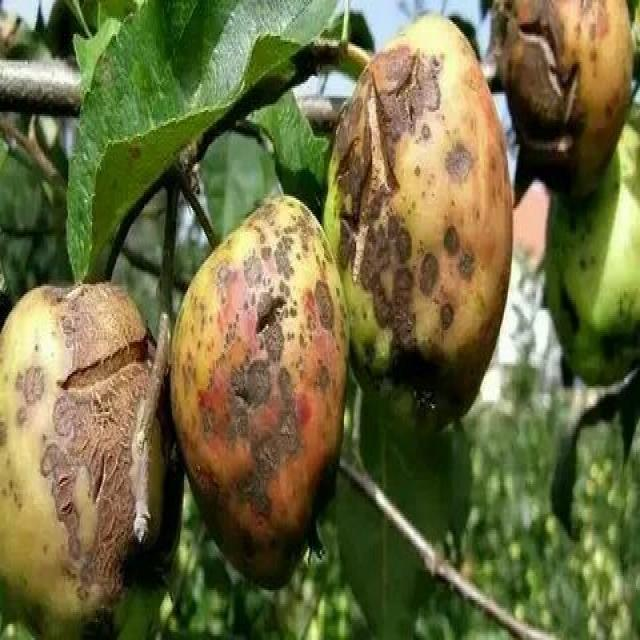Rotten: (148, 190, 362, 592), (328, 16, 522, 396), (0, 261, 166, 639), (483, 0, 640, 180)
